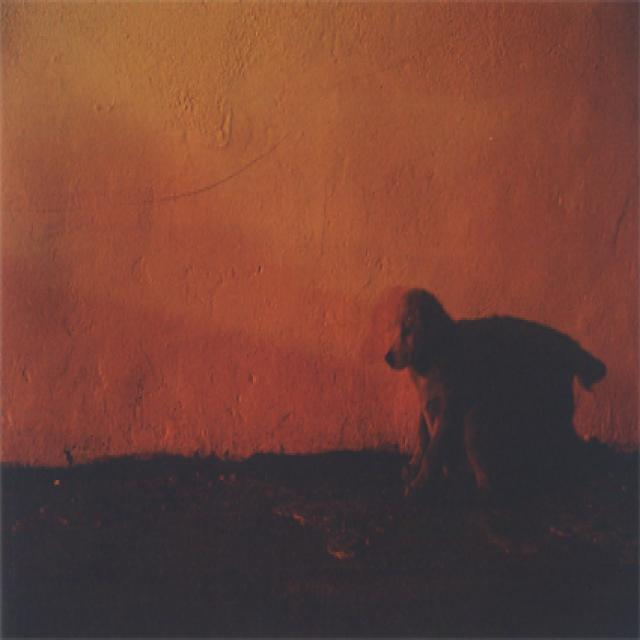Dog: (309, 275, 628, 562)
